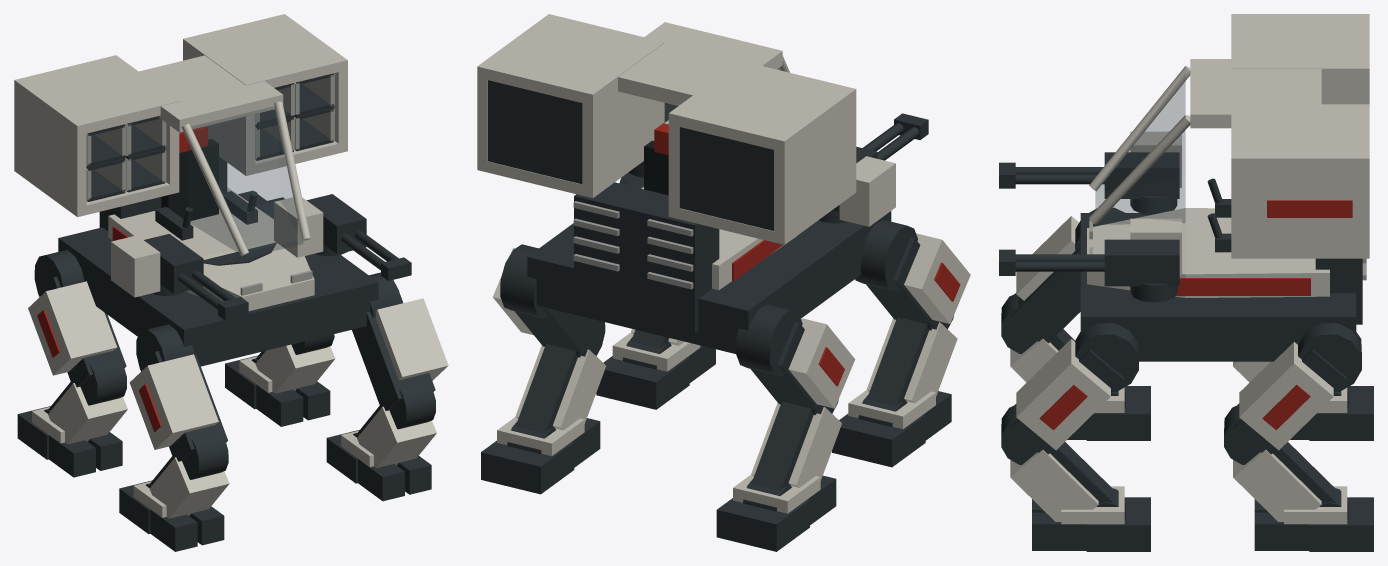
3 renders of one model, left to right at view 1: azimuth 30°, elevation 25°; view 2: azimuth 150°, elevation 25°; view 3: azimuth 270°, elevation 25°, orthographic. The views are drawn at different scales.
Parts seen in each view (by area): view 1: mech-torso-painted, mech-silo-left-painted, mech-silo-right-painted, mech-torso-glazing, mech-hip-1-painted, mech-hip-0-painted, mech-hip-3-painted, mech-mg-pitch-left-painted, mech-mg-pitch-right-painted, mech-seat-pilot-painted, mech-knee-1-painted, mech-knee-0-painted (+6 smaller); view 2: mech-torso-painted, mech-silo-left-painted, mech-silo-right-painted, mech-hip-0-painted, mech-hip-1-painted, mech-ankle-0-painted, mech-ankle-2-painted, mech-ankle-1-painted, mech-knee-2-painted, mech-ankle-3-painted, mech-knee-0-painted, mech-knee-1-painted (+3 smaller); view 3: mech-torso-painted, mech-silo-right-painted, mech-hip-3-painted, mech-hip-2-painted, mech-silo-left-painted, mech-torso-glazing, mech-mg-pitch-right-painted, mech-knee-3-painted, mech-knee-2-painted, mech-ankle-2-painted, mech-ankle-3-painted, mech-mg-pitch-left-painted (+8 smaller).
Boxes of the visible parts, left/top/right/bottom form: mech-torso-painted: left=58, top=55, right=378, bottom=366; mech-silo-left-painted: left=14, top=55, right=179, bottom=217; mech-silo-right-painted: left=183, top=14, right=347, bottom=175; mech-torso-glazing: left=188, top=106, right=302, bottom=257; mech-hip-1-painted: left=129, top=324, right=227, bottom=461; mech-hip-0-painted: left=28, top=250, right=126, bottom=387; mech-hip-3-painted: left=352, top=272, right=448, bottom=410; mech-mg-pitch-left-painted: left=111, top=234, right=248, bottom=320; mech-mg-pitch-right-painted: left=274, top=194, right=411, bottom=280; mech-seat-pilot-painted: left=155, top=126, right=257, bottom=240; mech-knee-1-painted: left=149, top=431, right=229, bottom=518; mech-knee-0-painted: left=48, top=357, right=127, bottom=444; mech-torso-painted: left=527, top=22, right=891, bottom=353; mech-silo-left-painted: left=668, top=60, right=856, bottom=244; mech-silo-right-painted: left=477, top=14, right=664, bottom=198; mech-hip-0-painted: left=736, top=304, right=855, bottom=413; mech-hip-1-painted: left=855, top=219, right=970, bottom=329; mech-ankle-0-painted: left=716, top=474, right=836, bottom=551; mech-ankle-2-painted: left=481, top=417, right=600, bottom=494; mech-ankle-1-painted: left=832, top=390, right=951, bottom=467; mech-knee-2-painted: left=515, top=321, right=605, bottom=433; mech-ankle-3-painted: left=596, top=332, right=715, bottom=409; mech-knee-0-painted: left=751, top=399, right=841, bottom=490; mech-knee-1-painted: left=866, top=316, right=957, bottom=406; mech-torso-painted: left=1080, top=59, right=1366, bottom=361; mech-silo-right-painted: left=1231, top=104, right=1369, bottom=258; mech-hip-3-painted: left=1010, top=323, right=1138, bottom=454; mech-hip-2-painted: left=1233, top=323, right=1361, bottom=454; mech-silo-left-painted: left=1231, top=14, right=1369, bottom=104; mech-torso-glazing: left=1095, top=74, right=1185, bottom=224; mech-mg-pitch-right-painted: left=999, top=218, right=1181, bottom=286; mech-knee-3-painted: left=1001, top=404, right=1113, bottom=521; mech-knee-2-painted: left=1224, top=404, right=1336, bottom=521; mech-ankle-2-painted: left=1254, top=486, right=1373, bottom=551; mech-ankle-3-painted: left=1032, top=486, right=1150, bottom=551; mech-mg-pitch-left-painted: left=999, top=131, right=1181, bottom=198.
Size of the model in its own units: 13.63 by 16.84 by 14.45.
